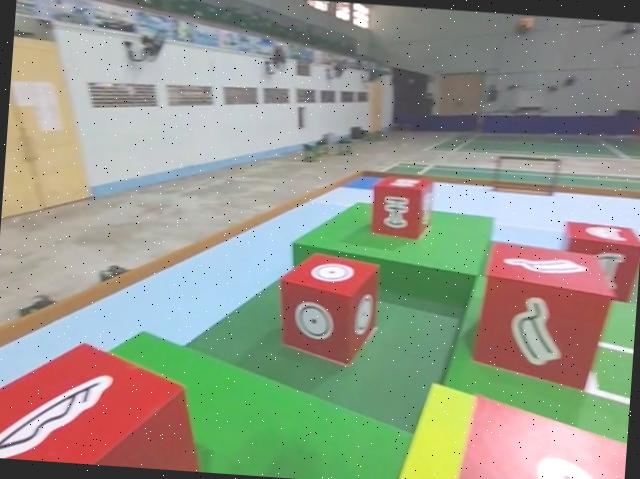R2 Real: (0, 334, 212, 471), (472, 240, 616, 391), (273, 247, 383, 366), (562, 220, 640, 304), (371, 173, 433, 238)
